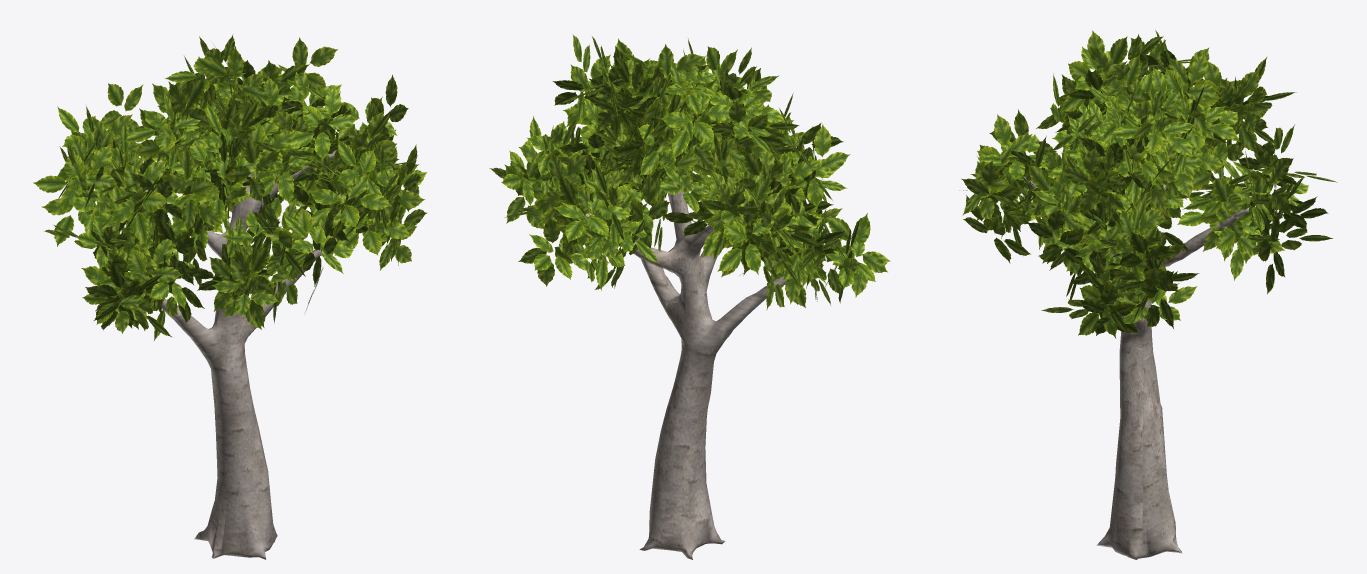
The model's file is cincis-beech-mid-study.glb.
3 views of the same model, side by side, from view 1: azimuth 30°, elevation 25°; view 2: azimuth 150°, elevation 25°; view 3: azimuth 270°, elevation 25° (orthographic).
Visible parts, largest first — view 1: Foliage, Trunk and branches; view 2: Foliage, Trunk and branches; view 3: Foliage, Trunk and branches.
Part boxes in pixels (left/top/right/bottom): Foliage: left=33, top=34, right=427, bottom=340; Trunk and branches: left=145, top=144, right=351, bottom=559; Foliage: left=489, top=34, right=890, bottom=310; Trunk and branches: left=585, top=181, right=786, bottom=559; Foliage: left=959, top=30, right=1337, bottom=338; Trunk and branches: left=1023, top=165, right=1249, bottom=559.
Size of the model in its own units: 6.99 by 8.82 by 6.23.
2 materials, 2 textured.
